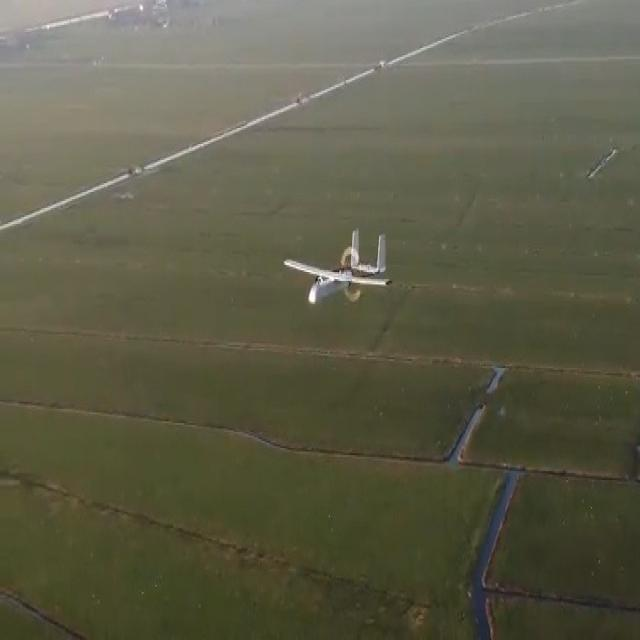iha: (311, 253, 374, 297)
